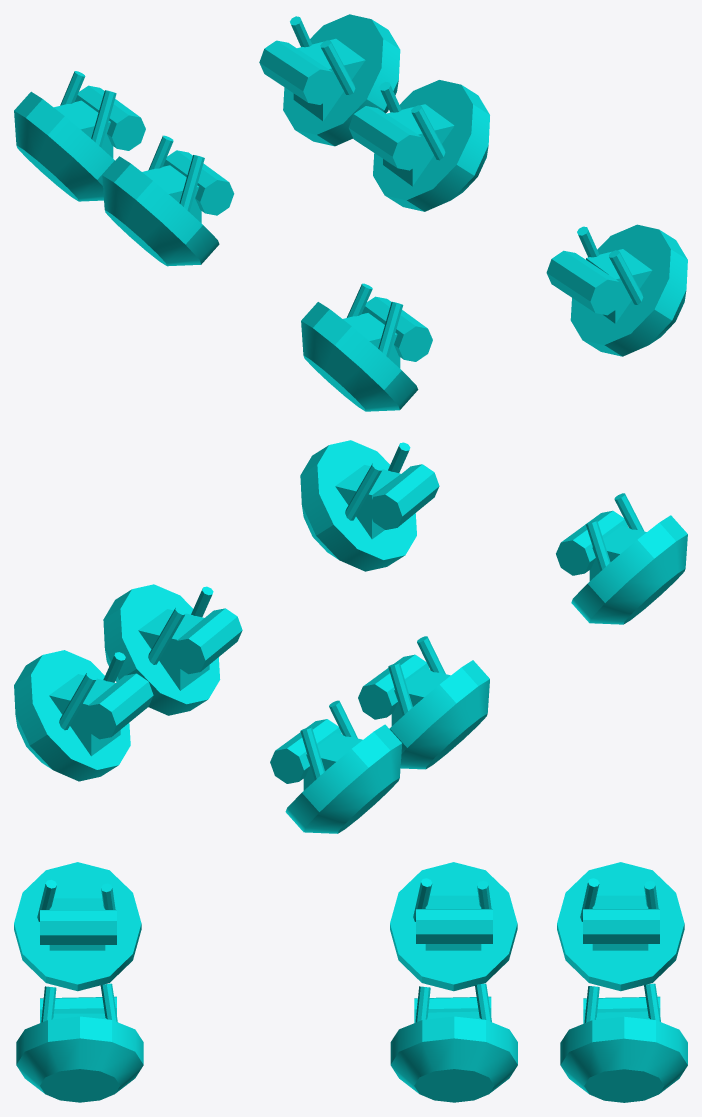
File: SM_Veh_Truck_01_Hover_Pads_01_Collision.fbx
3 renders of one model, top to bottom at view 1: azimuth 30°, elevation 25°; view 2: azimuth 150°, elevation 25°; view 3: azimuth 270°, elevation 25°, orthographic. The views are drawn at different scales.
Parts seen in each view (by area): view 1: SM_Veh_Truck_01_Hover_Pads_01_Collision; view 2: SM_Veh_Truck_01_Hover_Pads_01_Collision; view 3: SM_Veh_Truck_01_Hover_Pads_01_Collision.
Boxes of the visible parts, x1,y1,x2,y2 form: SM_Veh_Truck_01_Hover_Pads_01_Collision: (14, 14, 687, 411); SM_Veh_Truck_01_Hover_Pads_01_Collision: (14, 440, 687, 833); SM_Veh_Truck_01_Hover_Pads_01_Collision: (14, 862, 687, 1102).
Bounding box in the file's own units: 396 × 120 × 663.
